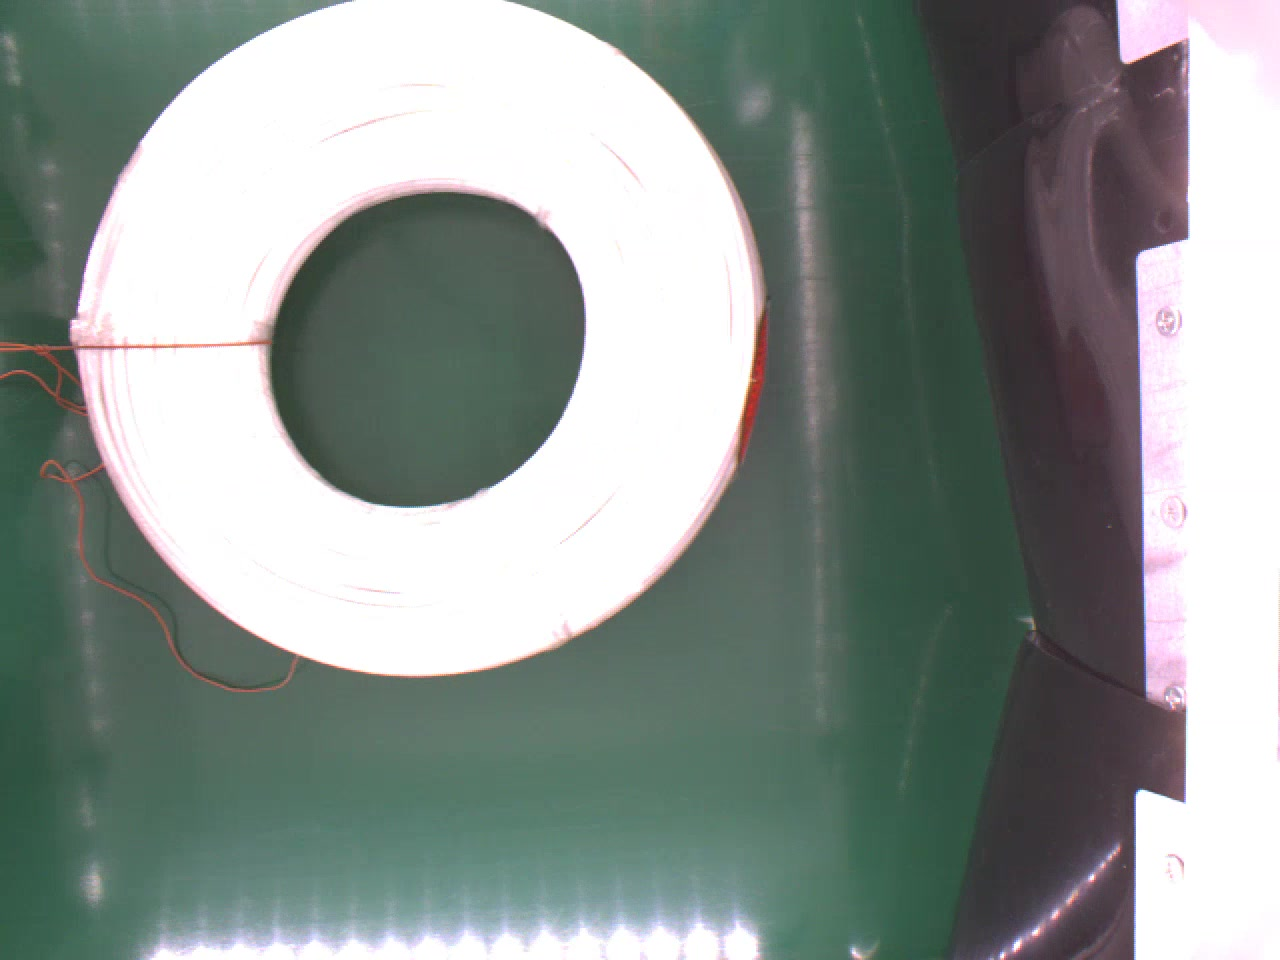white: (65, 0, 769, 680)
